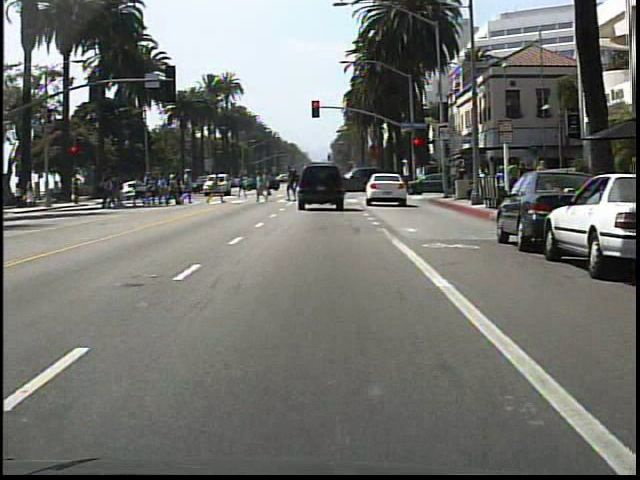person: (492, 161, 509, 208), (231, 170, 250, 204)
